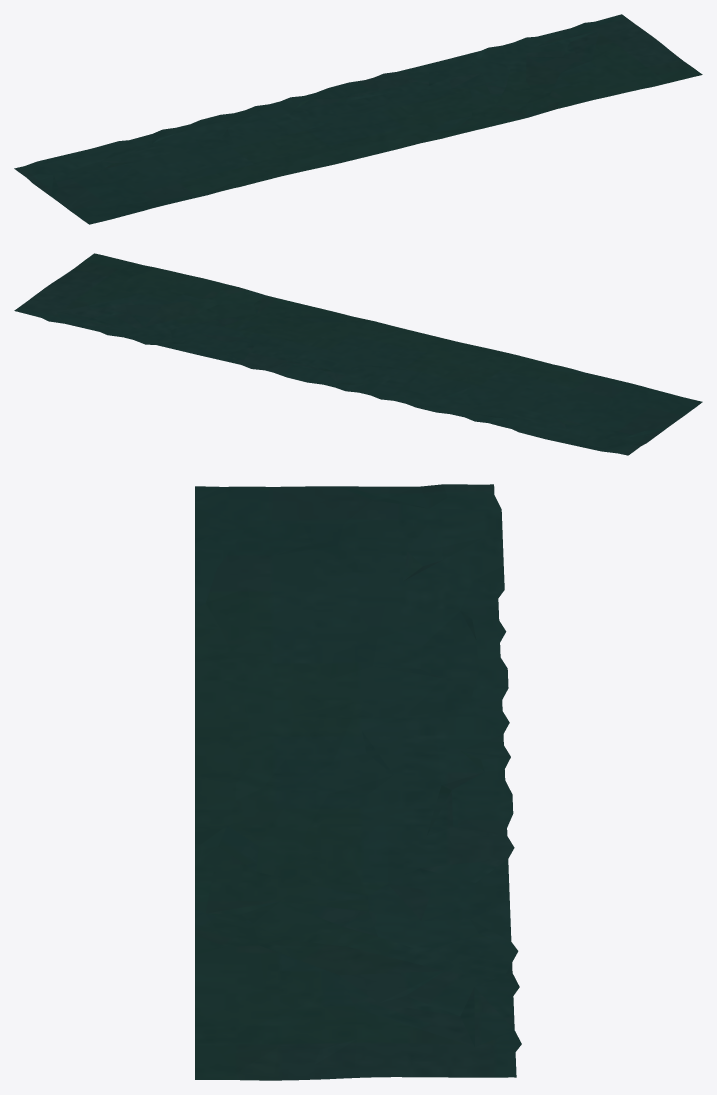
The picture shows the model from 3 angles, top to bottom: view 1: azimuth 30°, elevation 25°; view 2: azimuth 150°, elevation 25°; view 3: azimuth 270°, elevation 25°; orthographic projection. The views are drawn at different scales.
Size of the model in its own units: 209 by 0.9039 by 48.6.
Materials: 1 (1 with a texture image).
